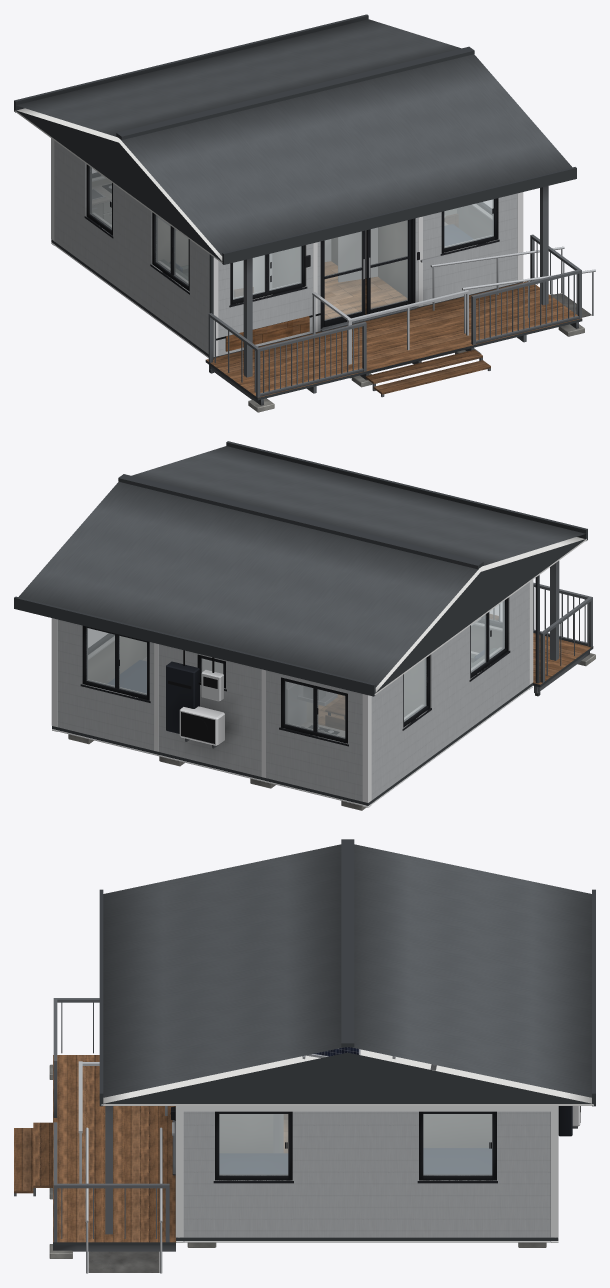
The model's file is Studio20_Production.glb.
The picture shows the model from 3 angles, top to bottom: view 1: azimuth 30°, elevation 25°; view 2: azimuth 150°, elevation 25°; view 3: azimuth 270°, elevation 25°; orthographic projection. The views are drawn at different scales.
Visible parts, largest first — view 1: RoofSlopingUpgrade, TerraceDeck, ExteriorPanelsStandard, WindowsStandard, EntryDoor, WindowsLargeUpgrade, LayoutS20TwoBed, LayoutS20ThreeBed, TopFrame, FloorSPCUpgrade, AccessibilityVillage, ExteriorPanelsPremium (+4 smaller); view 2: RoofSlopingUpgrade, ExteriorPanelsStandard, WindowsStandard, WindowsLargeUpgrade, TopFrame, TerraceDeck, SolarPrep, BaseFrame, InteriorWalls, HVACIndoorUnit, FurnitureStaging, KitchenAppliancePackage (+3 smaller); view 3: RoofSlopingUpgrade, ExteriorPanelsStandard, TerraceDeck, WindowsStandard, WindowsLargeUpgrade, FurnitureStaging, AccessibilityVillage, LayoutS20TwoBed, InteriorWalls, RoofMain, BaseFrame, TopFrame (+1 smaller).
Boxes of the visible parts, x1,y1,x2,y2 form: RoofSlopingUpgrade: [14, 14, 576, 377]; TerraceDeck: [205, 234, 584, 412]; ExteriorPanelsStandard: [54, 140, 517, 355]; WindowsStandard: [84, 164, 499, 337]; EntryDoor: [320, 218, 416, 331]; WindowsLargeUpgrade: [88, 167, 497, 340]; LayoutS20TwoBed: [338, 220, 407, 297]; LayoutS20ThreeBed: [158, 218, 299, 292]; TopFrame: [51, 138, 523, 356]; FloorSPCUpgrade: [324, 261, 407, 319]; AccessibilityVillage: [312, 269, 595, 378]; ExteriorPanelsPremium: [225, 316, 309, 351]; RoofSlopingUpgrade: [14, 441, 587, 696]; ExteriorPanelsStandard: [57, 582, 529, 802]; WindowsStandard: [80, 598, 510, 746]; WindowsLargeUpgrade: [82, 598, 508, 743]; TopFrame: [51, 580, 533, 802]; TerraceDeck: [482, 582, 595, 693]; SolarPrep: [166, 650, 223, 733]; BaseFrame: [52, 683, 532, 807]; InteriorWalls: [88, 636, 312, 722]; HVACIndoorUnit: [179, 618, 480, 748]; FurnitureStaging: [108, 648, 496, 730]; KitchenAppliancePackage: [286, 682, 337, 725]; RoofSlopingUpgrade: [99, 839, 595, 1234]; ExteriorPanelsStandard: [176, 1111, 557, 1237]; TerraceDeck: [14, 998, 175, 1258]; WindowsStandard: [213, 1111, 497, 1183]; WindowsLargeUpgrade: [215, 1111, 496, 1180]; FurnitureStaging: [219, 1114, 491, 1173]; AccessibilityVillage: [78, 1061, 167, 1273]; LayoutS20TwoBed: [219, 1114, 283, 1152]; InteriorWalls: [423, 1114, 491, 1147]; RoofMain: [175, 1106, 558, 1111]; BaseFrame: [176, 1237, 558, 1242]; TopFrame: [175, 1106, 558, 1237].
Size of the model in its own units: 7.72 by 3.81 by 8.98.
Materials: 47 (21 with a texture image).
